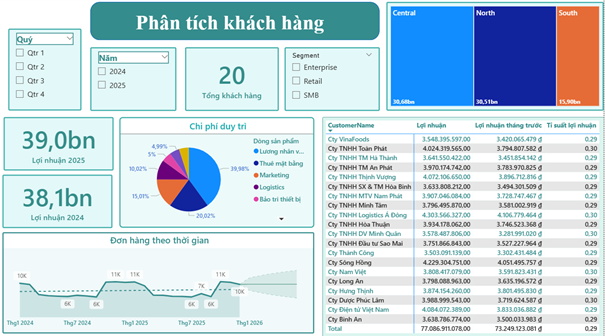

The dashboard page shown, as its layout file describes it:
{"tool":"powerbi","page":{"name":"Page 2","canvas":[1280,720],"ordinal":1},"visuals":[{"type":"pieChart","title":"Chi phí duy trì ","fields":{"Y":["Sum(Expense.Amount_VND)"],"Category":["Expense.ExpenseType"]},"box":[258.3,252.5,411.2,233.7],"z":0},{"type":"pivotTable","fields":{"Values":["Measure_Table.Profit","Measure_Table.Profit Last Month","Measure_Table.%margin"],"Rows":["Customer.CustomerName"]},"box":[685.3,252.5,594.4,467.5],"z":1000},{"type":"treemap","fields":{"Group":["Customer.Region"],"Values":["Measure_Table.Profit"]},"box":[820.9,10.1,458.8,229.4],"z":2000},{"type":"slicer","fields":{"Values":["Customer.Segment"]},"box":[606,105.3,200.5,134.2],"z":3000},{"type":"card","fields":{"Values":["Count(Customer.CustomerName)"]},"box":[396.8,105.3,197.7,134.2],"z":4000},{"type":"slicer","fields":{"Values":["Calendar.Date.Variation.Date Hierarchy.Year"]},"box":[196.2,105.3,181.8,134.2],"z":5000},{"type":"slicer","fields":{"Values":["Calendar.Date.Variation.Date Hierarchy.Quarter"]},"box":[23.1,66.4,154.4,173.1],"z":6000},{"type":"shape","box":[196.2,10.1,610.3,80.8],"z":7000},{"type":"textbox","box":[287.1,23.1,437.2,67.8],"z":8000},{"type":"lineChart","title":"Đơn hàng theo thời gian","fields":{"Category":["Calendar.Date.Variation.Date Hierarchy.Year","Calendar.Date.Variation.Date Hierarchy.Month"],"Y":["Measure_Table.Total Quantity Sold"]},"box":[11.5,496.3,657.9,213.5],"z":9000},{"type":"card","fields":{"Values":["Measure_Table.Profit 2024"]},"box":[11.5,373.7,232.3,112.5],"z":10000},{"type":"card","fields":{"Values":["Measure_Table.Profit 2025"]},"box":[13,252.5,232.3,112.5],"z":11000}]}

Visuals, with their boxes in screenshot pixels (x1, y1, x2, y2), scaled from the page's 1280x720 canvas onto the 605x336 screenshot:
"Chi phí duy trì " pieChart: 122, 118, 316, 227
pivotTable - Measure_Table.Profit x Measure_Table.Profit Last Month: 324, 118, 604, 335
treemap - Customer.Region x Measure_Table.Profit: 388, 5, 604, 112
slicer - Customer.Segment: 286, 49, 381, 112
card - Count(Customer.CustomerName): 188, 49, 281, 112
slicer - Calendar.Date.Variation.Date Hierarchy.Year: 93, 49, 179, 112
slicer - Calendar.Date.Variation.Date Hierarchy.Quarter: 11, 31, 84, 112
shape: 93, 5, 381, 42
textbox: 136, 11, 342, 42
"Đơn hàng theo thời gian" lineChart: 5, 232, 316, 331
card - Measure_Table.Profit 2024: 5, 174, 115, 227
card - Measure_Table.Profit 2025: 6, 118, 116, 170
